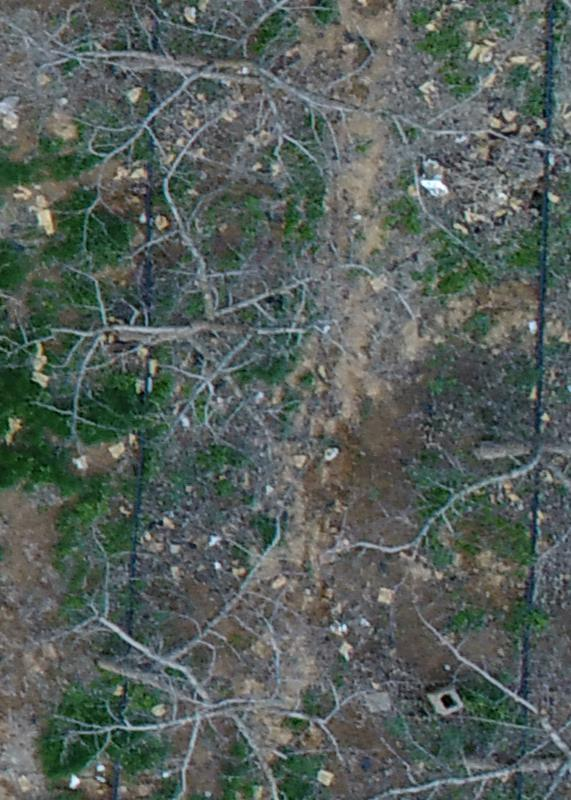apple: (14, 10, 512, 258), (32, 155, 368, 464), (52, 507, 362, 790)
